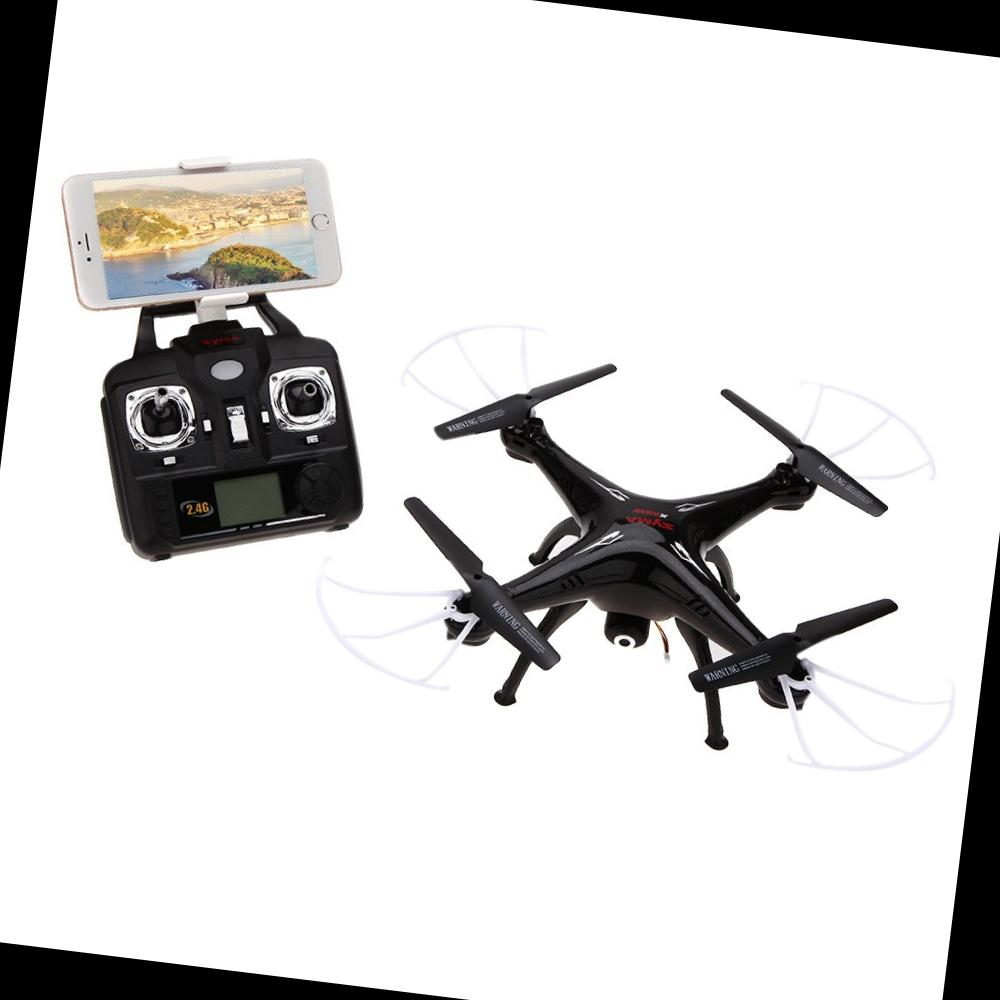drone: (273, 286, 1000, 803)
